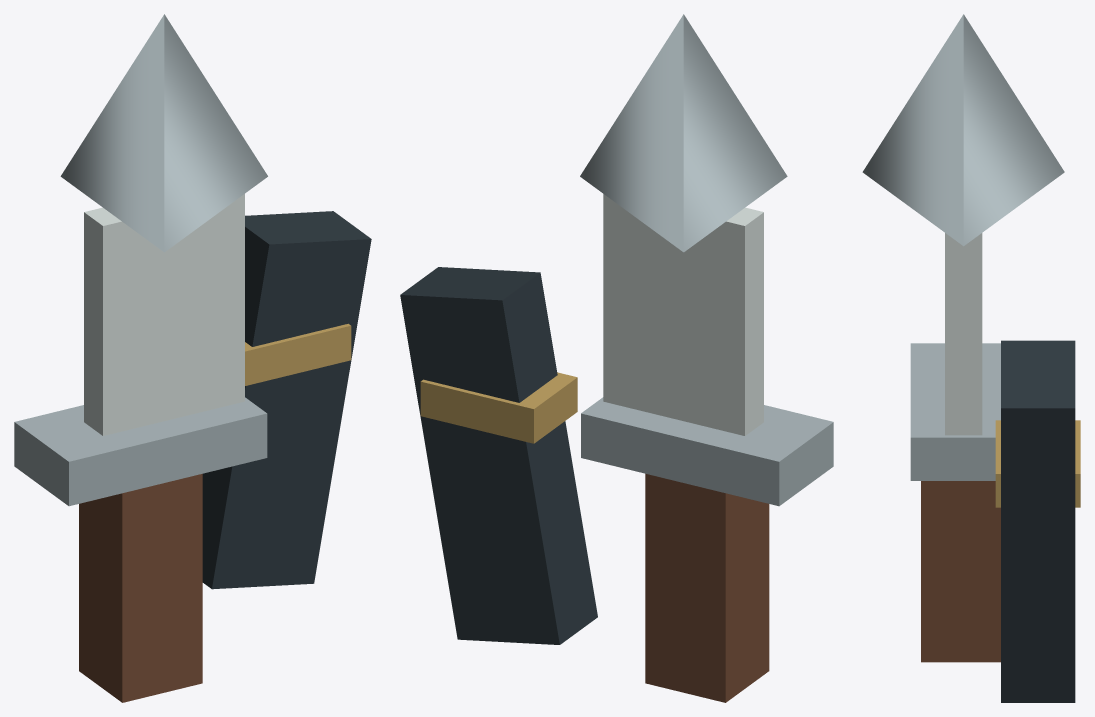
Rendered from fixed-knife-lod1.glb.
The picture shows the model from 3 angles, left to right: view 1: azimuth 30°, elevation 25°; view 2: azimuth 150°, elevation 25°; view 3: azimuth 270°, elevation 25°; orthographic projection. The views are drawn at different scales.
Visible parts, largest first — view 1: piece_whole; view 2: piece_whole; view 3: piece_whole.
Boxes of the visible parts, x1=… form: piece_whole: x1=14, y1=14, x2=371, y2=702; piece_whole: x1=400, y1=14, x2=833, y2=702; piece_whole: x1=862, y1=14, x2=1080, y2=702.
Bounding box in the file's own units: 0.3695 × 0.665 × 0.2053.
